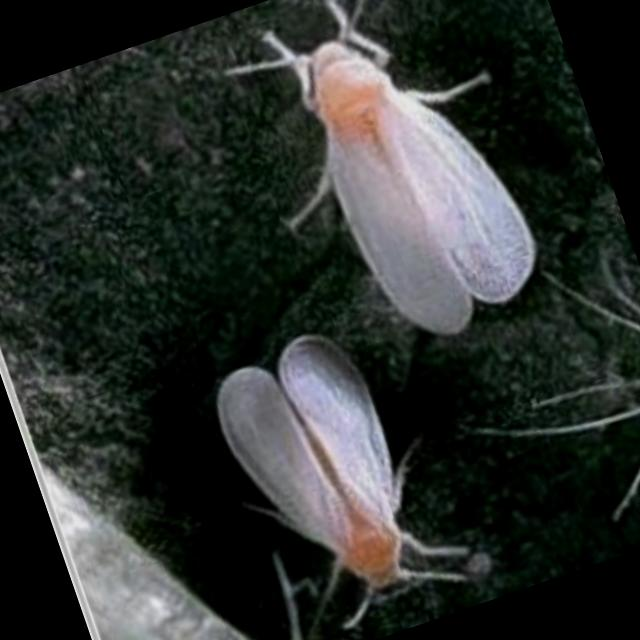Silverleaf whitefly: (202, 0, 577, 375), (188, 292, 484, 640)
